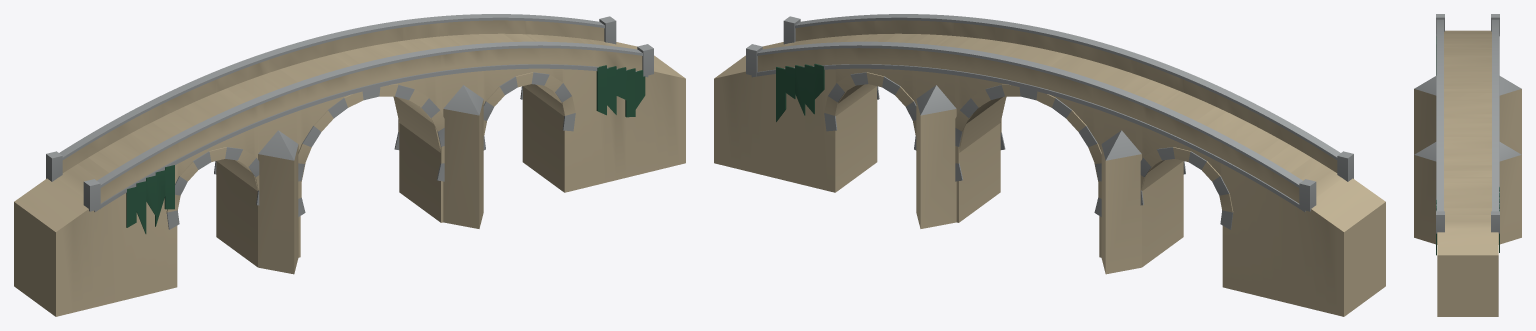
Rendered from bridge.glb.
3 views of the same model, side by side, from view 1: azimuth 30°, elevation 25°; view 2: azimuth 150°, elevation 25°; view 3: azimuth 270°, elevation 25° (orthographic). The views are drawn at different scales.
Parts seen in each view (by area): view 1: bridge; view 2: bridge; view 3: bridge.
Part boxes in pixels (x1,y1,x2,y2): bridge: (14, 14, 685, 316); bridge: (714, 14, 1385, 316); bridge: (1414, 14, 1521, 316).
Size of the model in its own units: 29.6 by 7.84 by 6.
